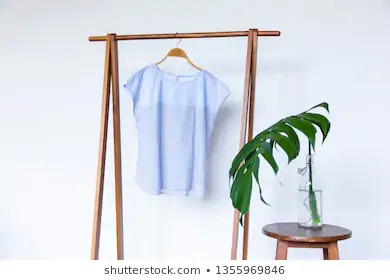S_short blouse: (121, 63, 233, 199)
